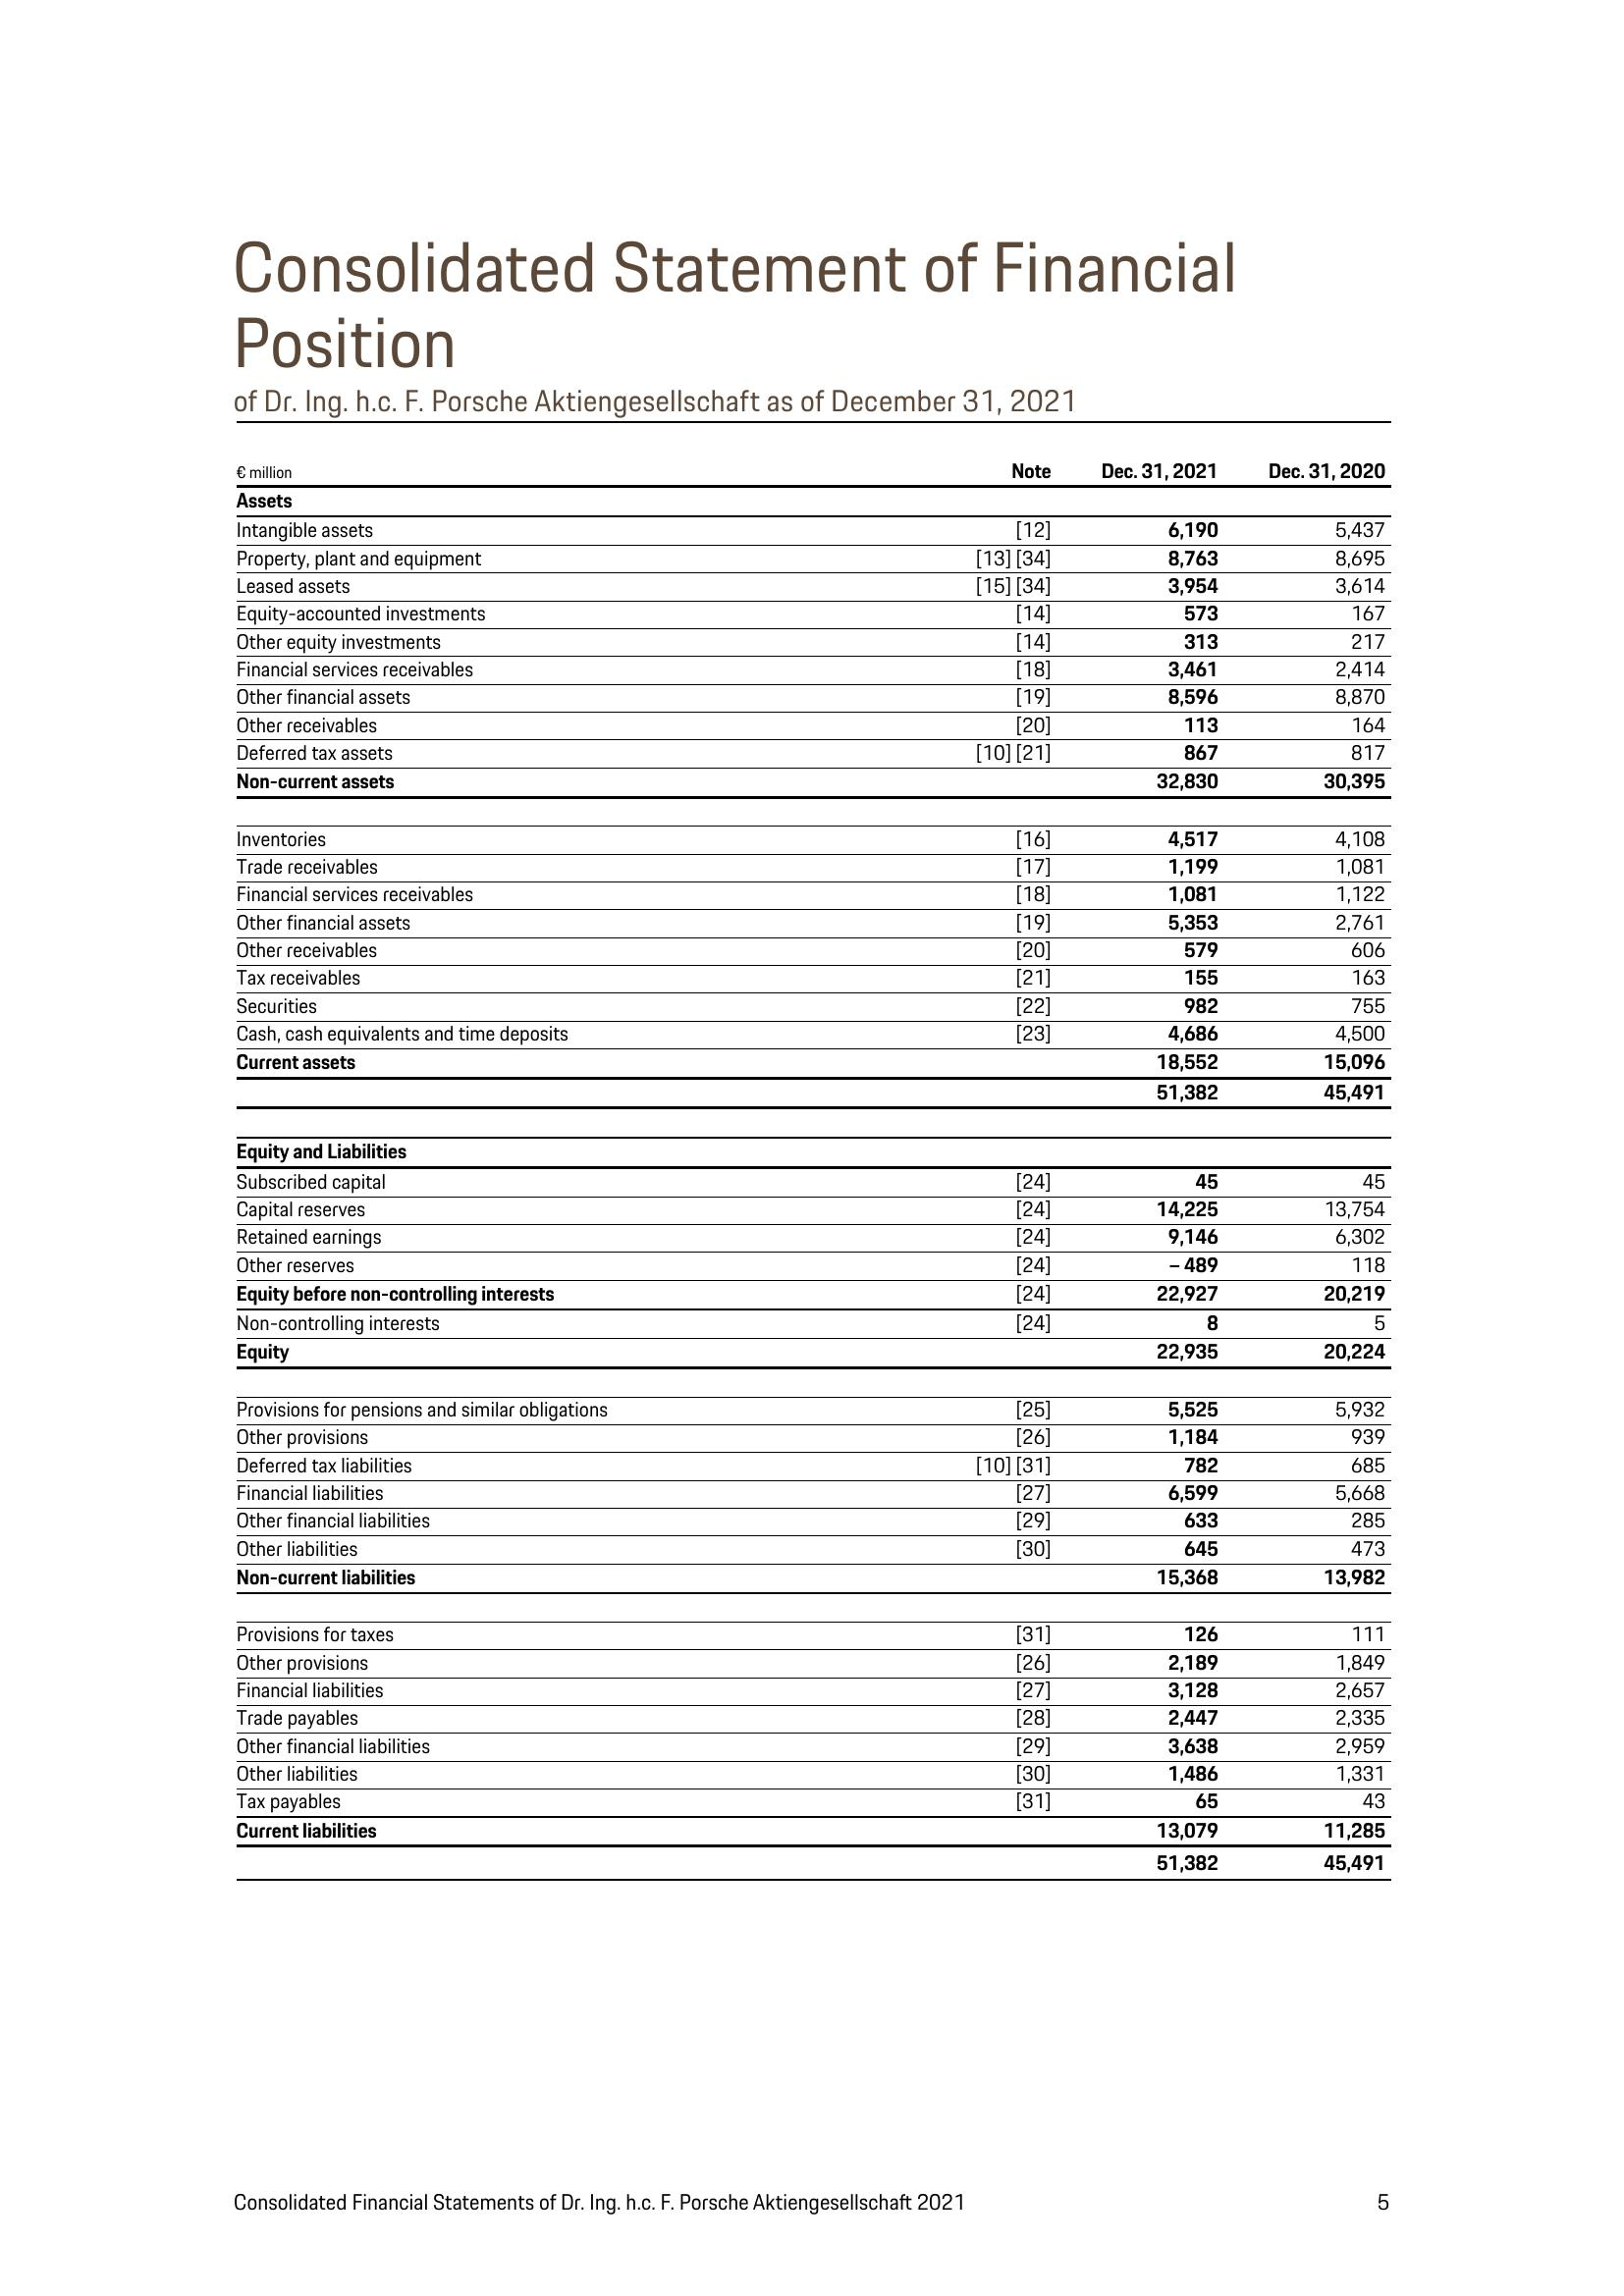Footer: (0, 2143, 1624, 2296)
Header: (0, 0, 1624, 188)
Table: (172, 402, 1394, 1903)
